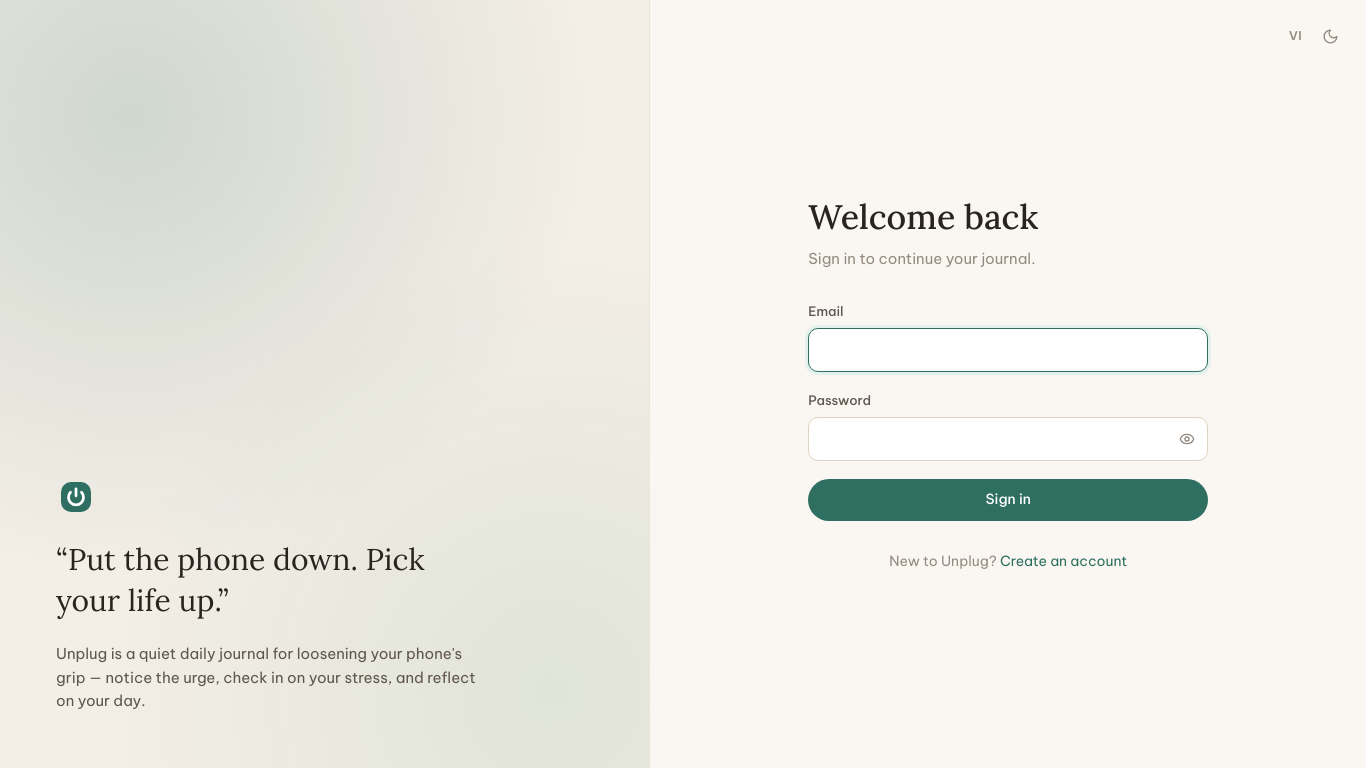
Scenario: SignIn › explains a temporary lockout
In the field labelled "Email": (1008, 350) [809,329,1207,371], type "an@example.com"
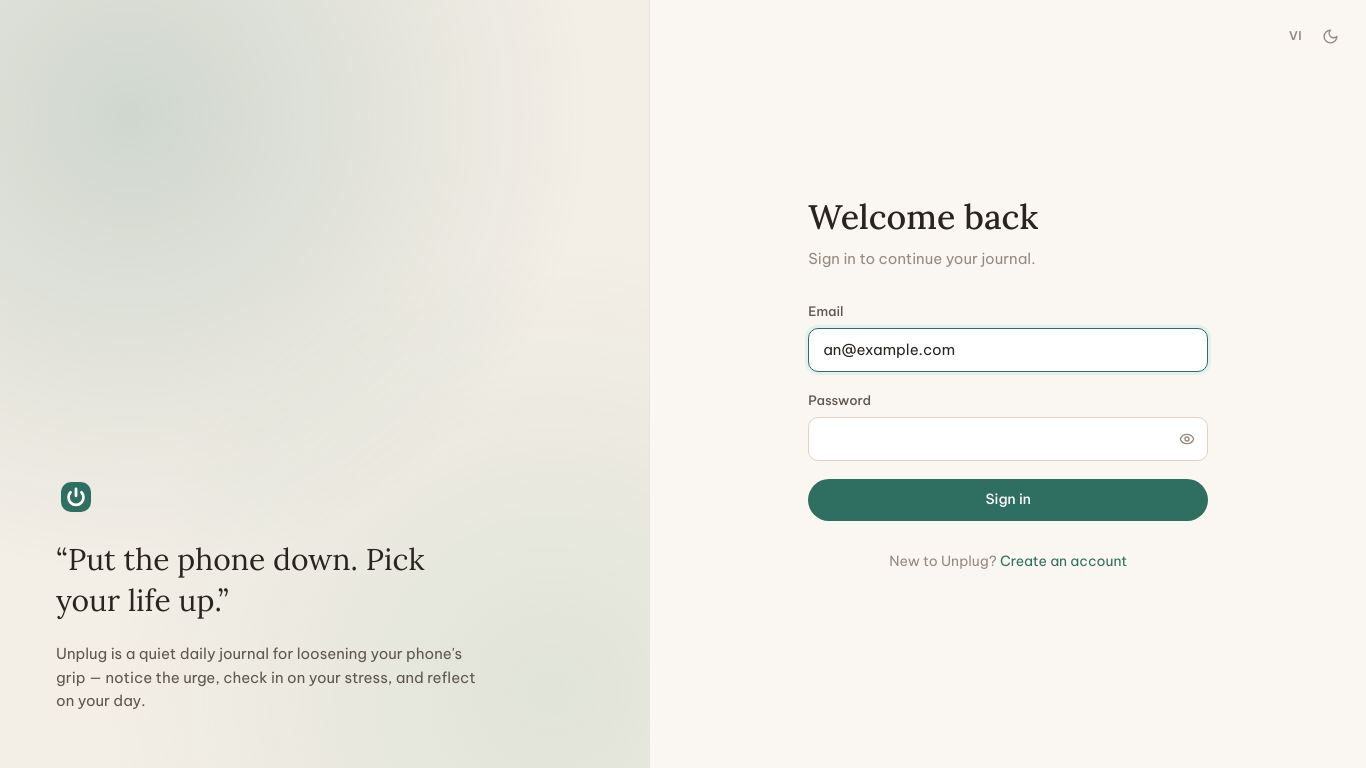
In the password field labelled "Password": (988, 439) [809,418,1167,460], type "Passw0rd!"
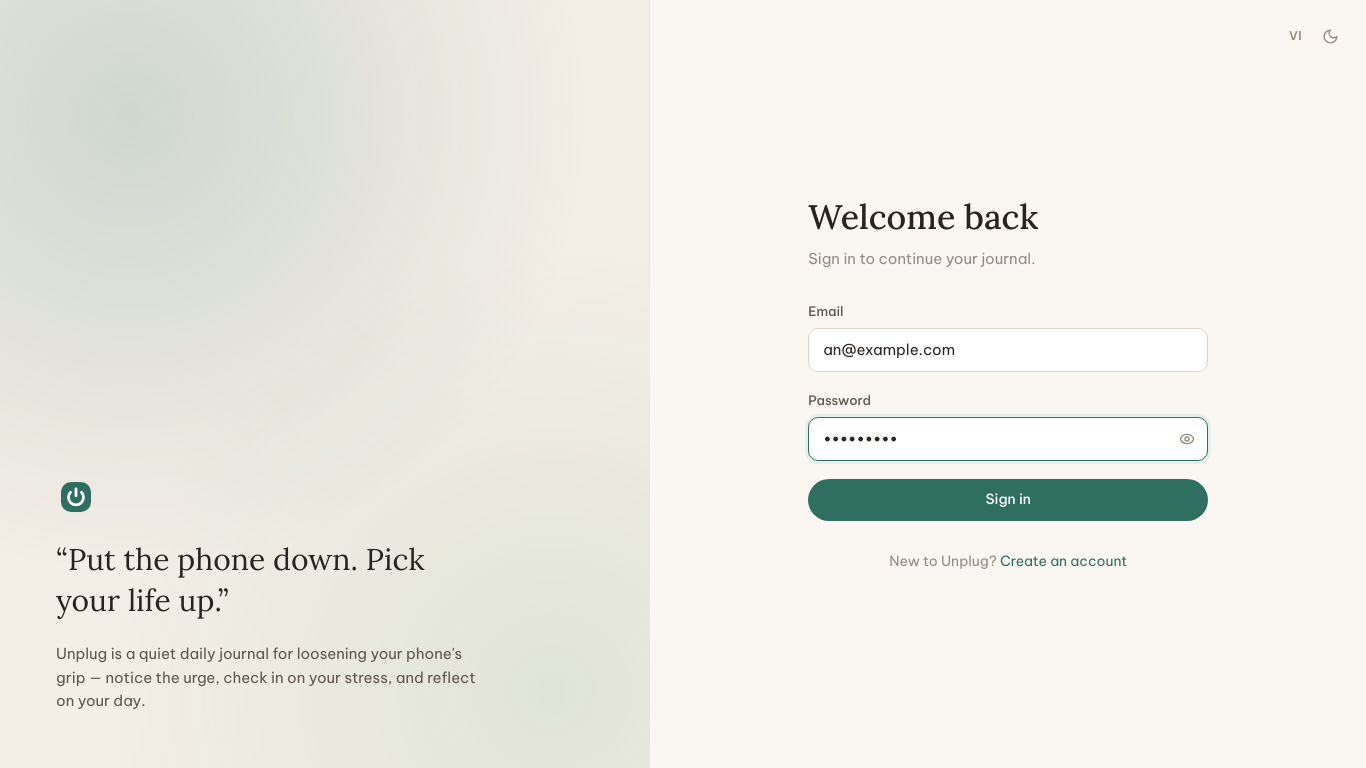
Click the button "Sign in": click(1008, 500) [808,479,1208,521]
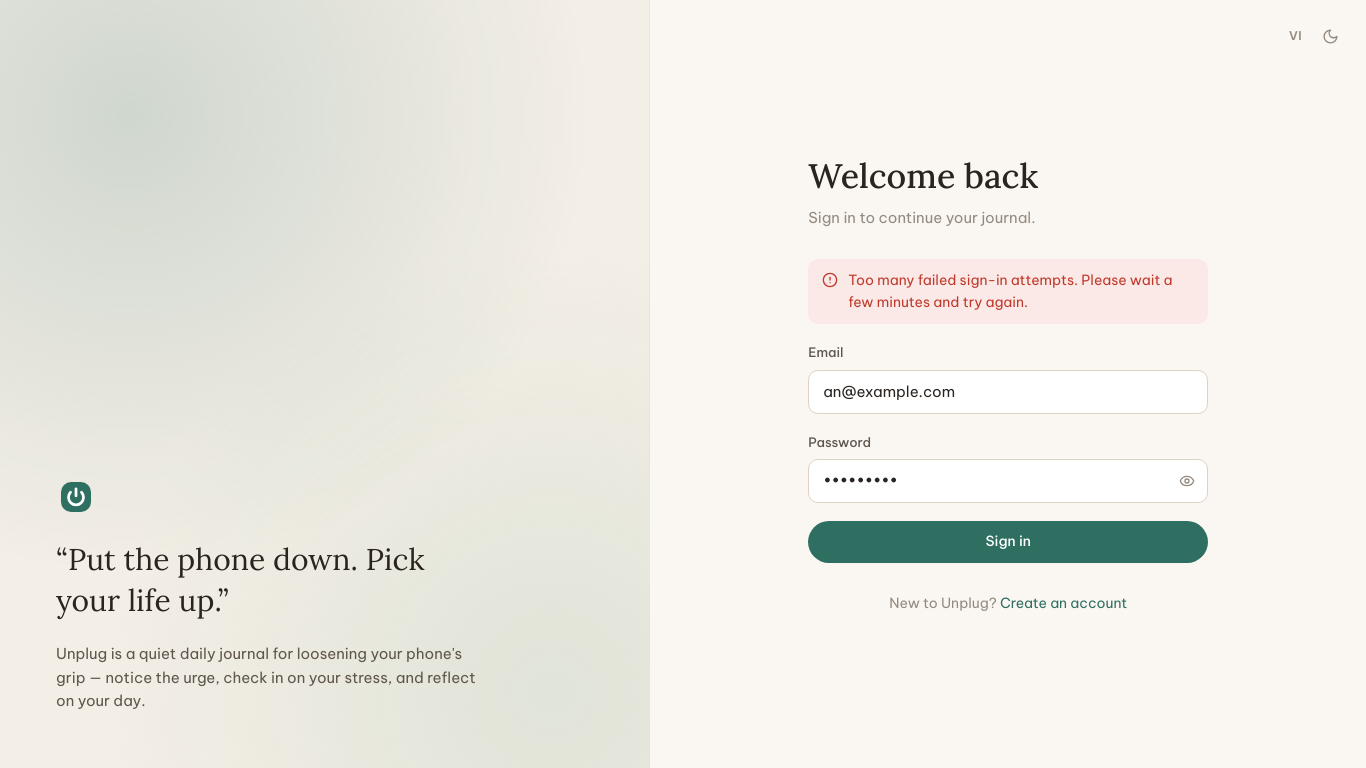
Expected: the message shows "Too many failed sign-in attempts", [848,271,1173,311]
